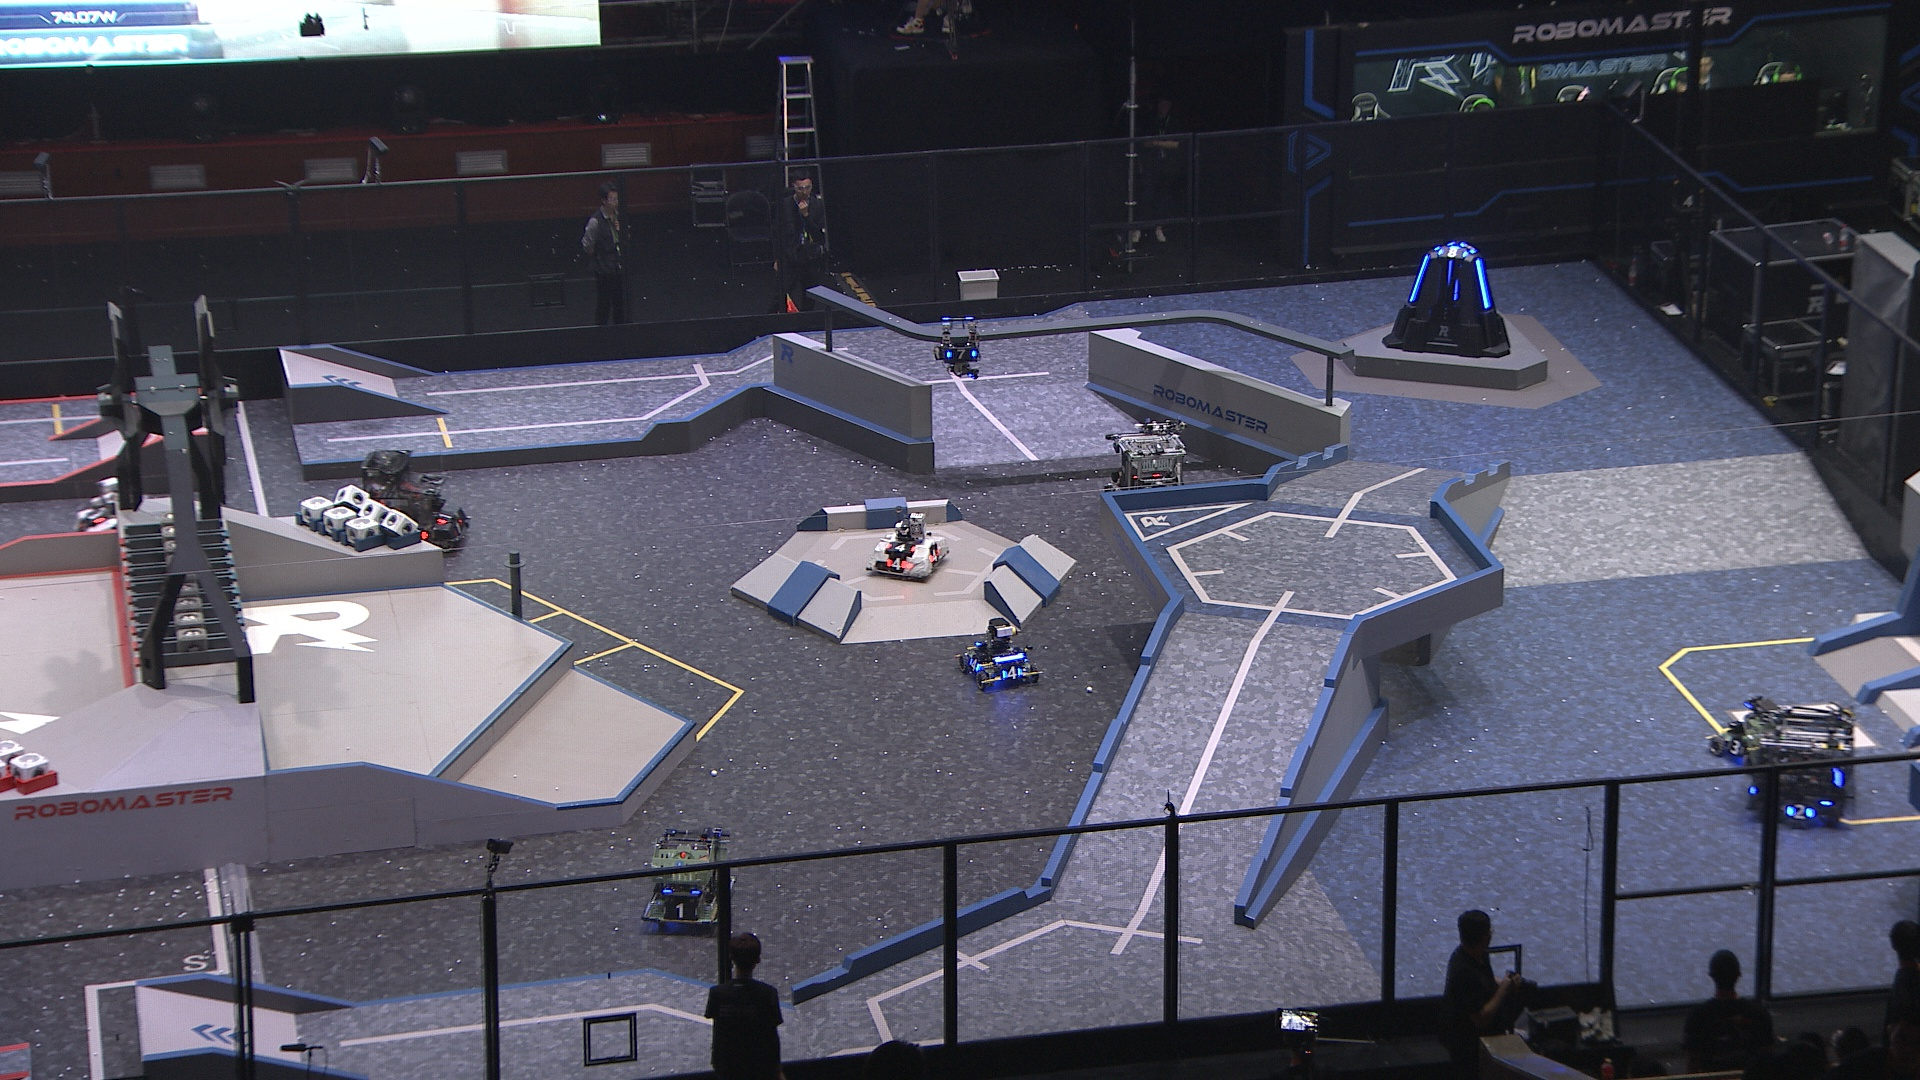armor: (1408, 256, 1429, 302), (662, 898, 698, 924), (1474, 257, 1491, 309), (1783, 800, 1815, 822), (942, 348, 978, 363), (1436, 244, 1472, 258), (884, 556, 910, 572), (884, 541, 916, 553), (84, 510, 105, 527), (1001, 666, 1025, 680), (967, 651, 982, 673), (1727, 738, 1745, 757), (434, 510, 454, 526), (452, 518, 467, 538), (1447, 258, 1456, 289), (927, 546, 942, 560)
base: (1379, 243, 1513, 357)
car: (1742, 699, 1858, 825), (357, 448, 472, 553), (640, 825, 738, 932), (1101, 423, 1189, 518), (956, 615, 1044, 692), (1708, 700, 1797, 771), (868, 512, 953, 583), (73, 472, 153, 535)
watcher: (931, 315, 984, 381)
